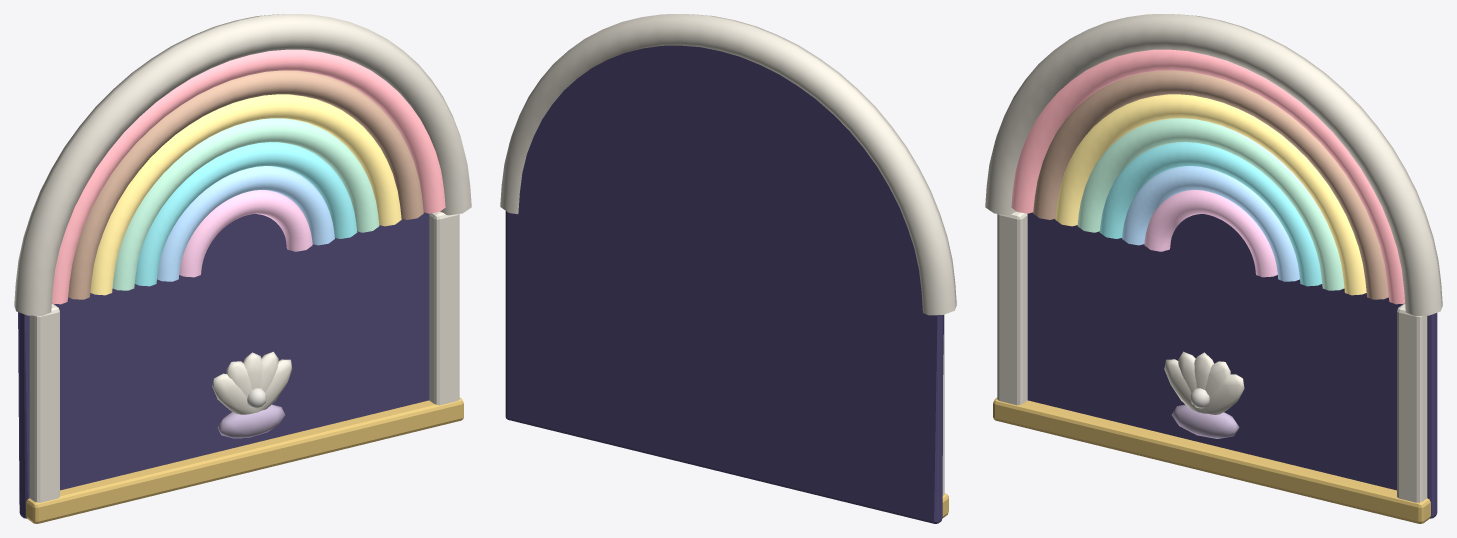
Rendered from pearl_rainbow_window.glb.
3 renders of one model, left to right at view 1: azimuth 30°, elevation 25°; view 2: azimuth 150°, elevation 25°; view 3: azimuth 330°, elevation 25°, orthographic.
Visible parts, largest first — view 1: pearl_rainbow_window.001; view 2: pearl_rainbow_window.001; view 3: pearl_rainbow_window.001.
Part boxes in pixels (x1,y1,x2,y2): pearl_rainbow_window.001: (14,14,471,523); pearl_rainbow_window.001: (500,14,956,523); pearl_rainbow_window.001: (985,14,1442,523).
Size of the model in its own units: 13.06 by 12.33 by 1.4.
